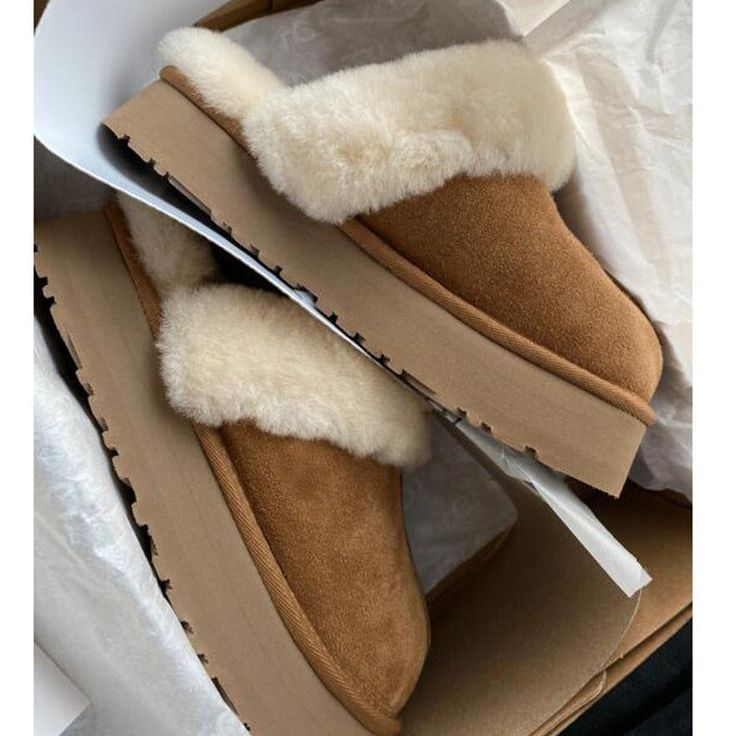gamuza: (108, 64, 662, 733)
